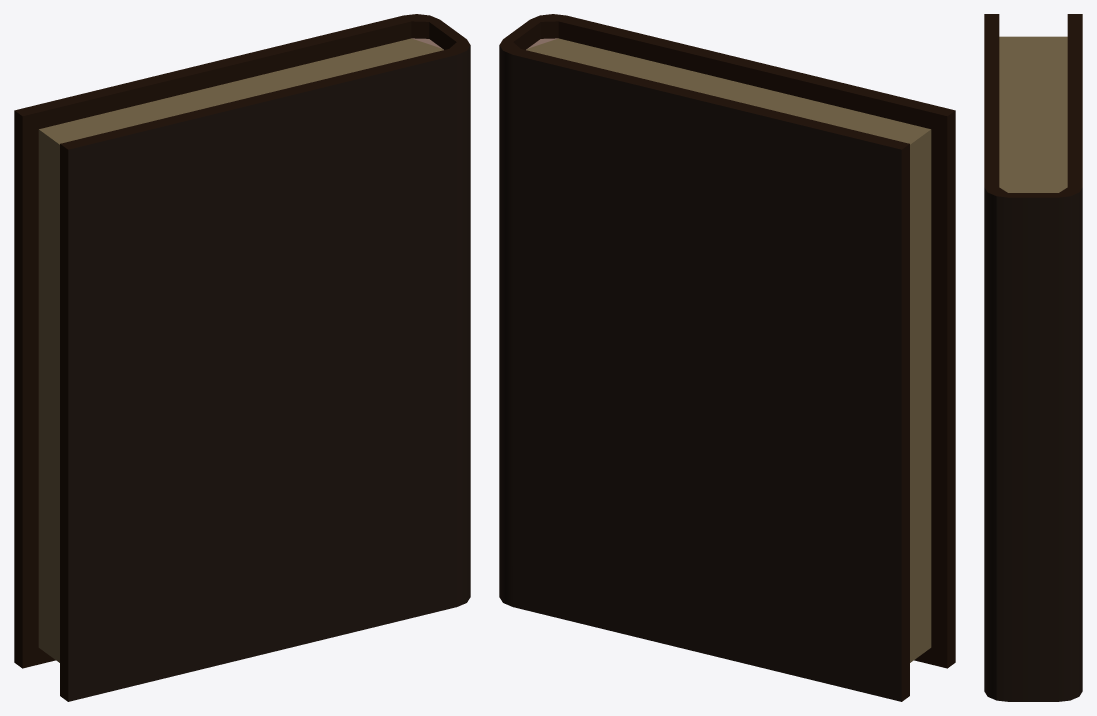
Rendered from Book1.fbx.
3 renders of one model, left to right at view 1: azimuth 30°, elevation 25°; view 2: azimuth 150°, elevation 25°; view 3: azimuth 270°, elevation 25°, orthographic. The views are drawn at different scales.
Parts seen in each view (by area): view 1: Book; view 2: Book; view 3: Book.
Part boxes in pixels (x1=…): Book: x1=14, y1=14, x2=470, y2=701; Book: x1=499, y1=14, x2=955, y2=701; Book: x1=984, y1=14, x2=1082, y2=701.
Bounding box in the file's own units: 23.34 × 29.88 × 5.27.
